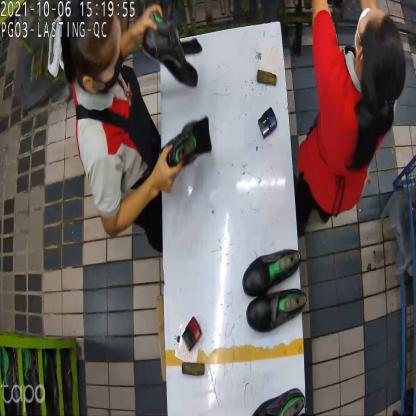shoes: (140, 17, 212, 172), (242, 245, 305, 333)
stamp: (180, 318, 204, 352), (259, 105, 276, 138)
